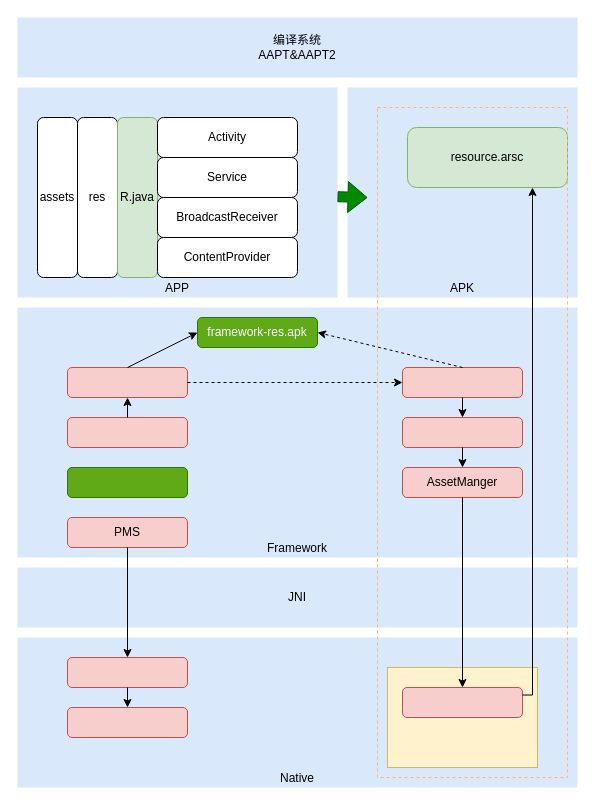
This 594x804 diagram has some shape labels left out. Each missing label, with the centre of its shape:
"ActivityThread" goes at (462,382).
"AMS" goes at (127,432).
"AssertManger" goes at (462,702).
"Configuration" goes at (127,482).
"idmap" goes at (127,722).
"installd" goes at (127,672).
"ResourceManager" goes at (462,432).
"Zygote" goes at (127,382).
